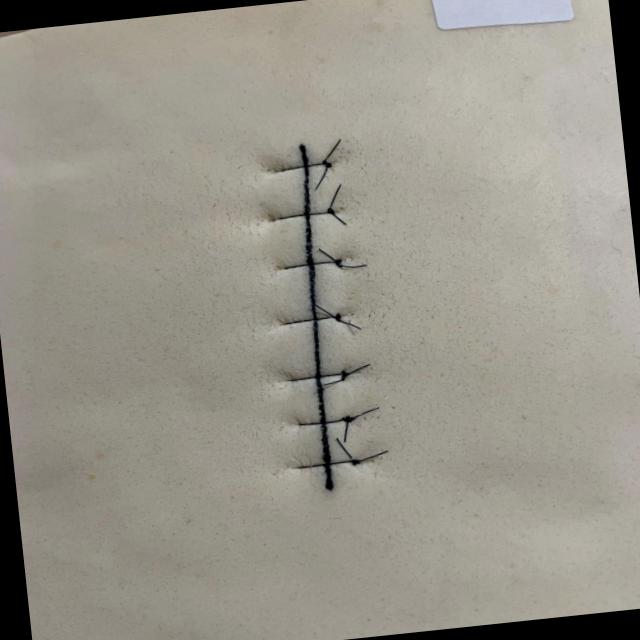knot: (338, 368, 353, 382), (338, 413, 357, 424), (331, 311, 345, 324), (319, 158, 334, 170), (324, 205, 337, 217), (331, 257, 344, 269), (349, 457, 363, 467)
leftover: (334, 436, 356, 461), (341, 362, 371, 379), (322, 138, 342, 163), (348, 405, 379, 420), (356, 449, 389, 463), (327, 183, 342, 212), (313, 162, 328, 190), (311, 302, 336, 318), (317, 247, 338, 263), (335, 318, 362, 330), (329, 211, 347, 226), (342, 418, 350, 443), (322, 378, 343, 386), (336, 263, 367, 268)
stitch: (271, 210, 333, 222), (277, 315, 341, 326), (292, 459, 358, 469), (282, 260, 340, 270), (283, 372, 347, 381), (279, 161, 328, 172), (296, 416, 349, 425)
wound: (299, 142, 333, 491)
